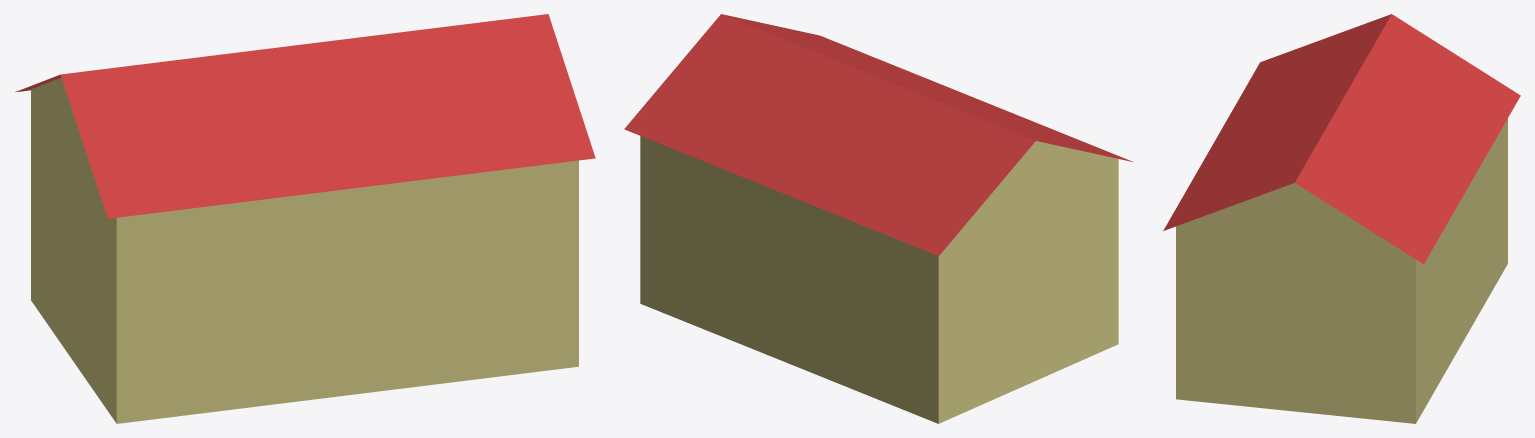
3 views of the same model, side by side, from view 1: azimuth 30°, elevation 25°; view 2: azimuth 150°, elevation 25°; view 3: azimuth 270°, elevation 25° (orthographic). The views are drawn at different scales.
Size of the model in its own units: 21.39 by 16.53 by 11.9.
